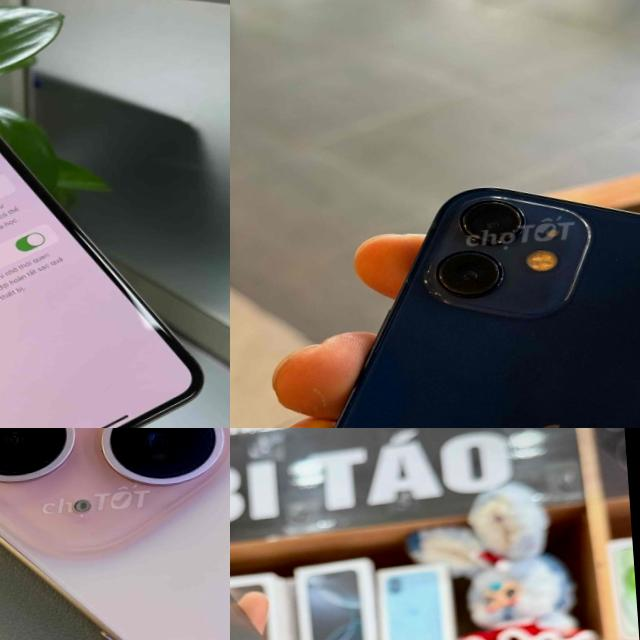gen_11: (0, 136, 201, 428)
gen_12_13: (236, 158, 640, 428)
gen_14: (230, 483, 432, 640)
gen_15: (0, 428, 230, 640)
